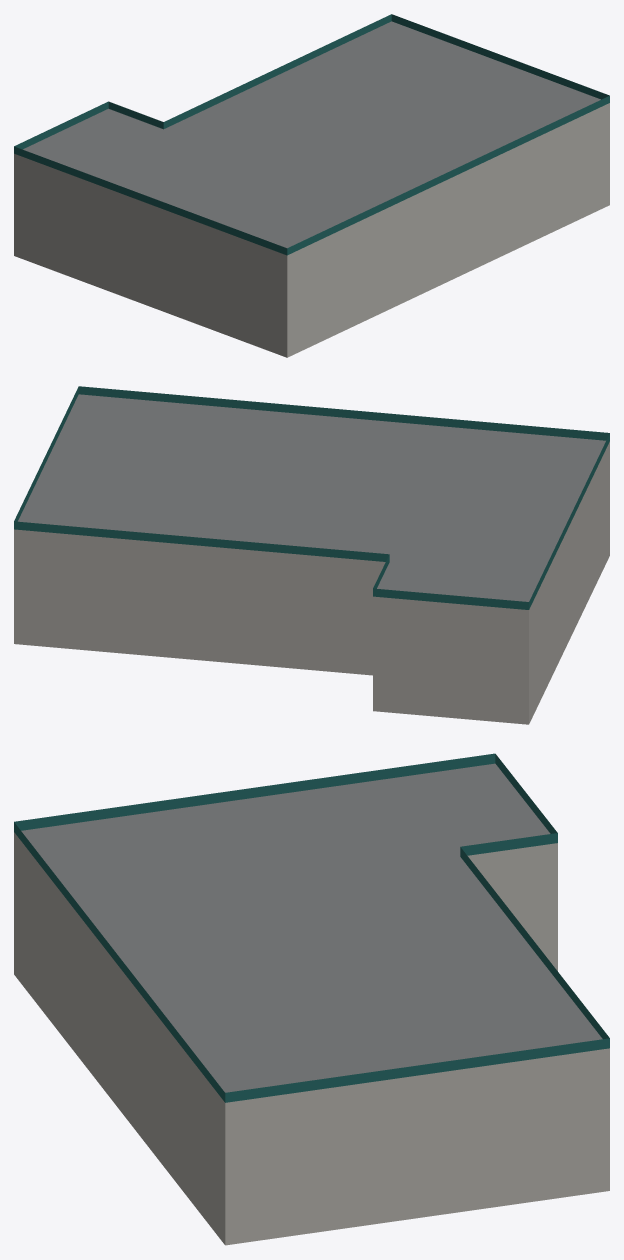
Rendered from plaza-citra-lod2.glb.
3 views of the same model, one above another, from view 1: azimuth 30°, elevation 25°; view 2: azimuth 150°, elevation 25°; view 3: azimuth 270°, elevation 25° (orthographic). The views are drawn at different scales.
Visible parts, largest first — view 1: plaza-citra_LOD2; view 2: plaza-citra_LOD2; view 3: plaza-citra_LOD2.
Part boxes in pixels (bbox=[...]): plaza-citra_LOD2: bbox=[14, 14, 609, 357]; plaza-citra_LOD2: bbox=[14, 386, 609, 724]; plaza-citra_LOD2: bbox=[14, 753, 609, 1245].
Size of the model in its own units: 93.9 by 19.7 by 69.7.
